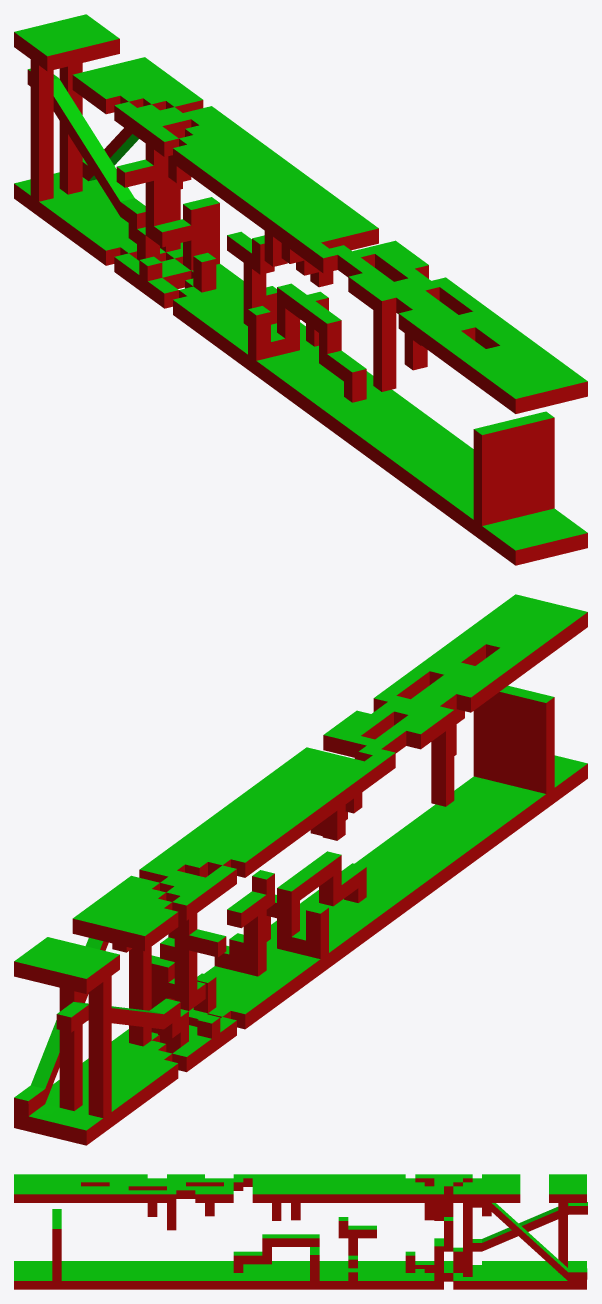
The model's file is Level4.obj.
3 views of the same model, one above another, from view 1: azimuth 30°, elevation 25°; view 2: azimuth 150°, elevation 25°; view 3: azimuth 270°, elevation 25° (orthographic). The views are drawn at different scales.
Visible parts, largest first — view 1: SAFEGROUND_SAFEGROUND, INSTAKILL_INSTAKILL; view 2: SAFEGROUND_SAFEGROUND, INSTAKILL_INSTAKILL; view 3: SAFEGROUND_SAFEGROUND, INSTAKILL_INSTAKILL.
Part boxes in pixels (box(x1,y1,x2,y2)): SAFEGROUND_SAFEGROUND: box(14, 14, 587, 550); INSTAKILL_INSTAKILL: box(14, 32, 587, 565); SAFEGROUND_SAFEGROUND: box(14, 594, 587, 1130); INSTAKILL_INSTAKILL: box(14, 612, 587, 1145); SAFEGROUND_SAFEGROUND: box(14, 1174, 587, 1280); INSTAKILL_INSTAKILL: box(14, 1178, 587, 1289).
Bounding box in the file's own units: 6 × 11 × 60.09.
